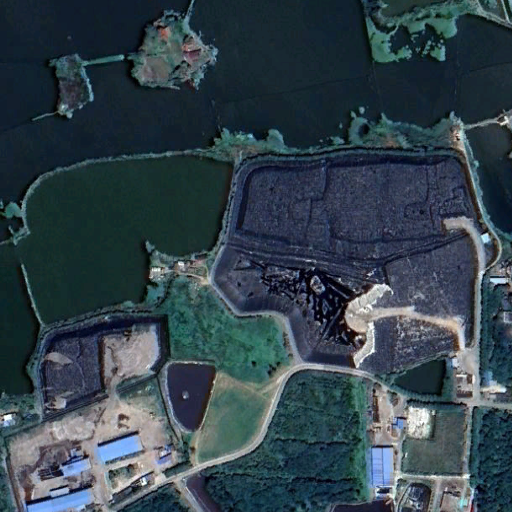lf: (214, 159, 480, 369)
